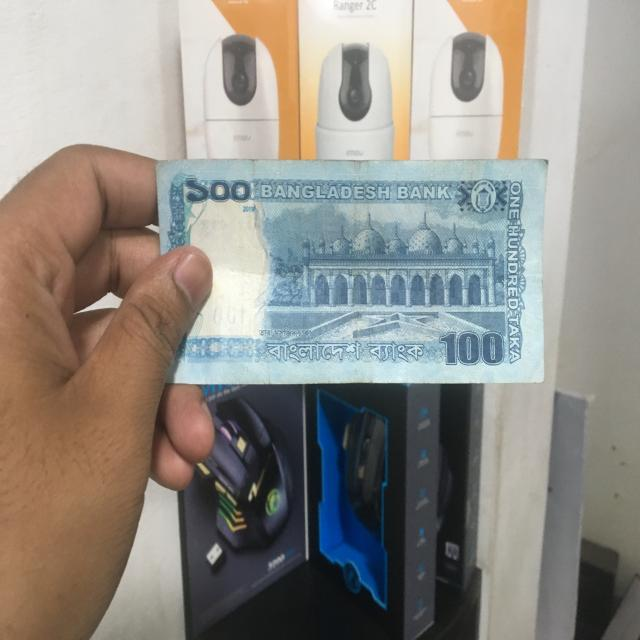Taka: (155, 156, 544, 386)
